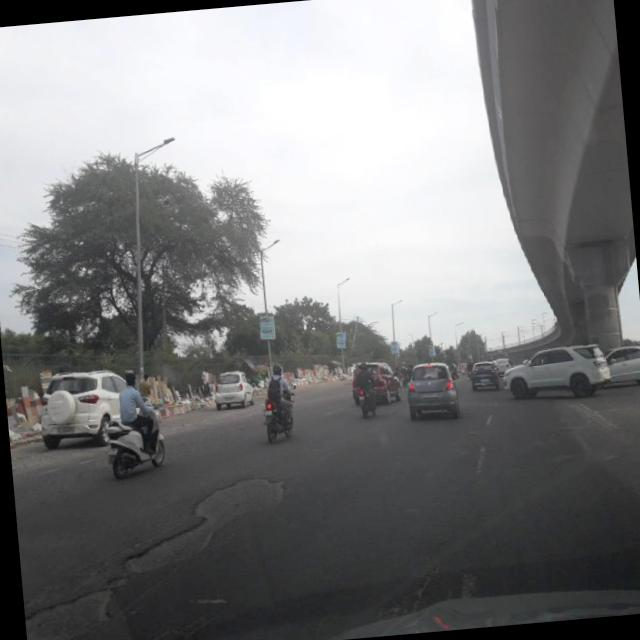crack: (17, 508, 195, 603), (354, 516, 478, 625)
pothole: (112, 466, 294, 570), (22, 571, 127, 640)
